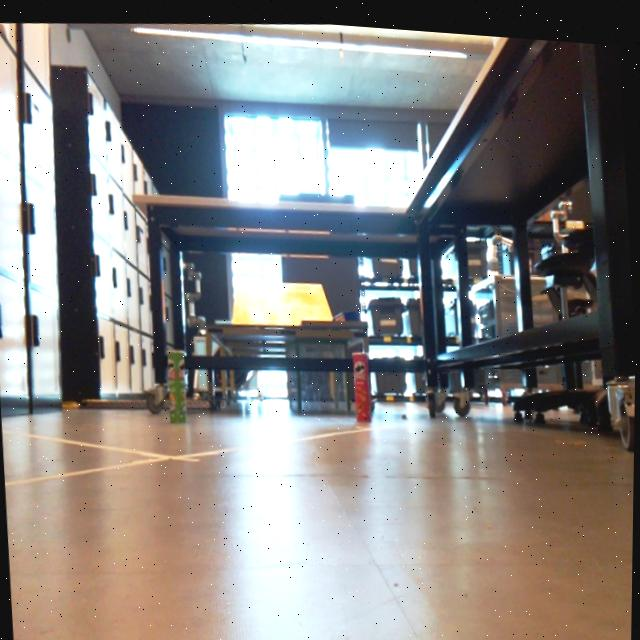greenpringles: (158, 330, 203, 437)
redpringles: (341, 333, 385, 441)
